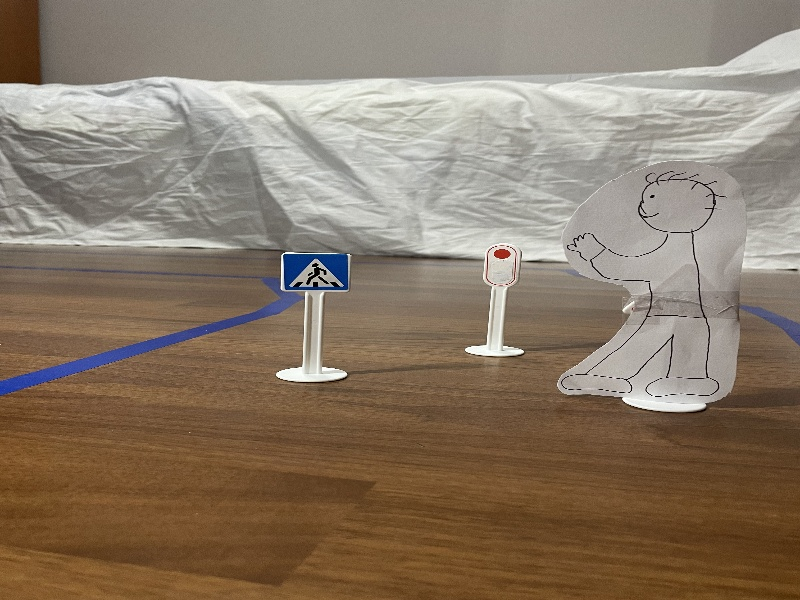persoana: (557, 141, 754, 418)
semafor_rosu: (476, 240, 527, 296)
trecere_pietoni: (276, 245, 358, 295)
